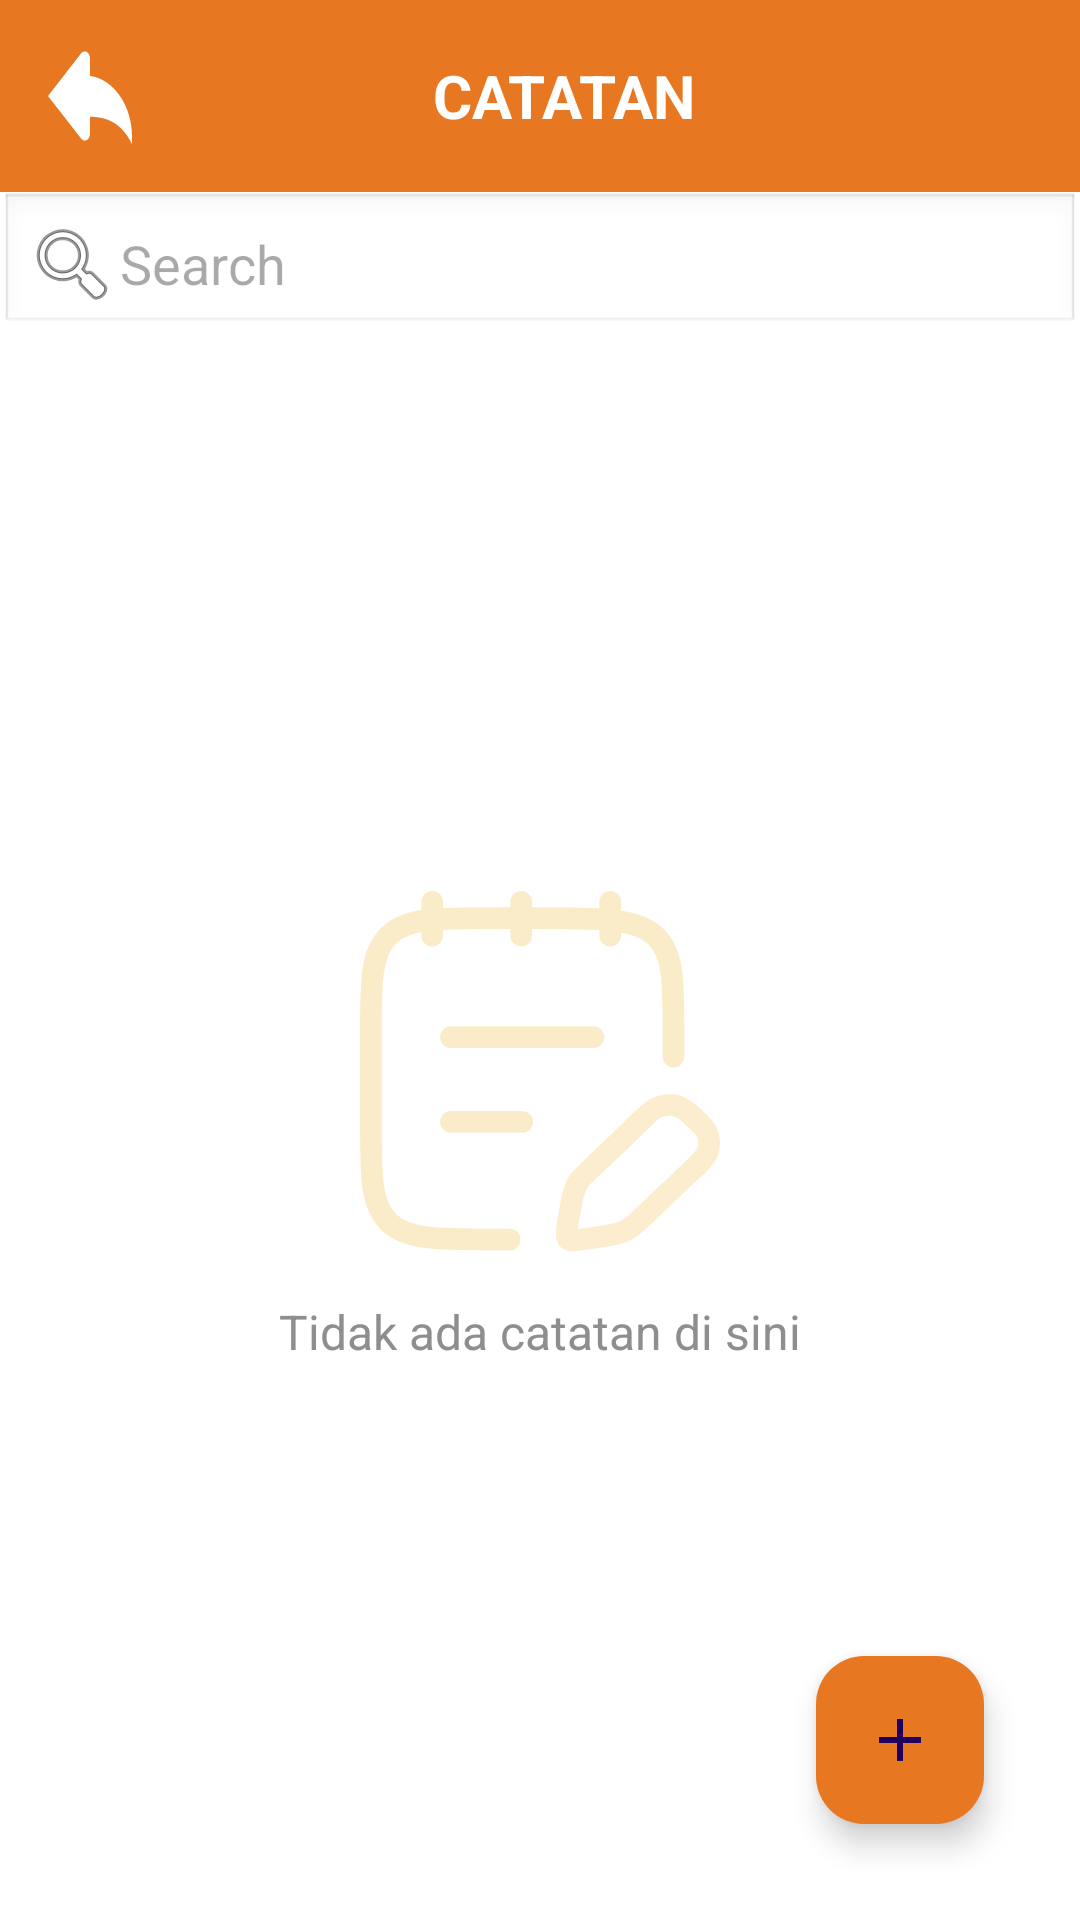

Icons on this 1080×1920 Android screen, each with the point to tap as [x,y]:
iconback: [90,97]
iconnote: [540,1071]
icontambah: [900,1740]
